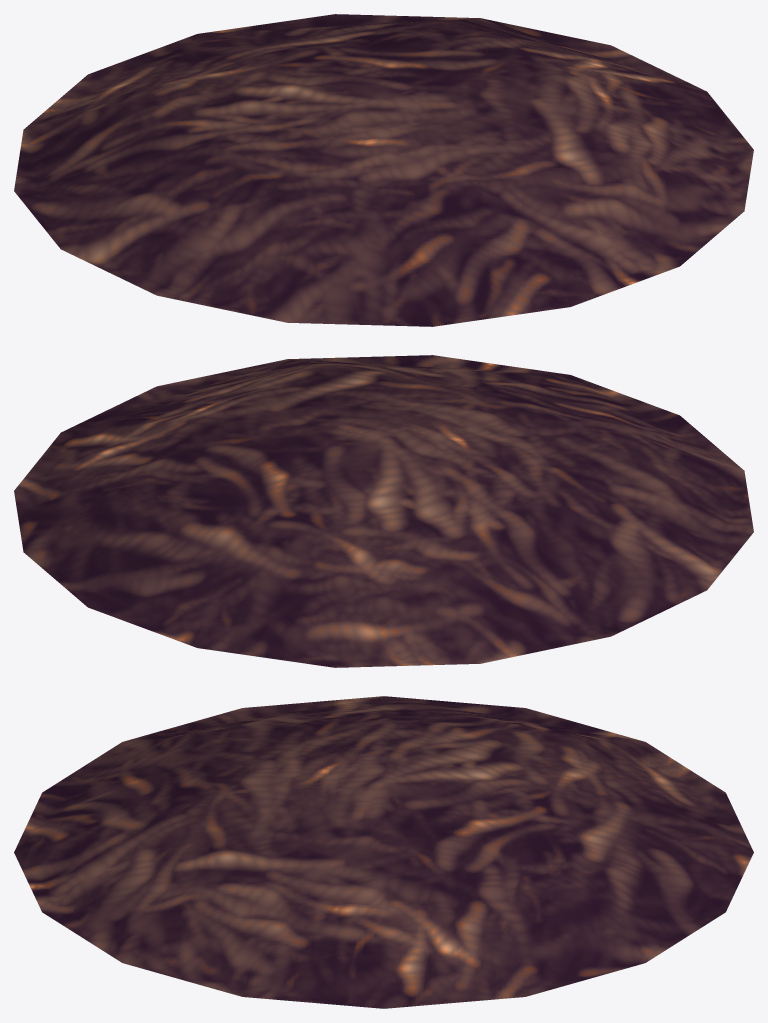
File: SM_PROP_barrel_filling_town_02.fbx
3 views of the same model, one above another, from view 1: azimuth 30°, elevation 25°; view 2: azimuth 150°, elevation 25°; view 3: azimuth 270°, elevation 25° (orthographic).
Parts seen in each view (by area): view 1: SM_PROP_barrel_filling_town_02_LOD0; view 2: SM_PROP_barrel_filling_town_02_LOD0; view 3: SM_PROP_barrel_filling_town_02_LOD0.
Boxes of the visible parts, x1,y1,x2,y2 form: SM_PROP_barrel_filling_town_02_LOD0: [14, 14, 753, 326]; SM_PROP_barrel_filling_town_02_LOD0: [14, 355, 753, 667]; SM_PROP_barrel_filling_town_02_LOD0: [14, 696, 753, 1008].
Size of what is drawn, in the model's own units: 70 by 7.16 by 70.
